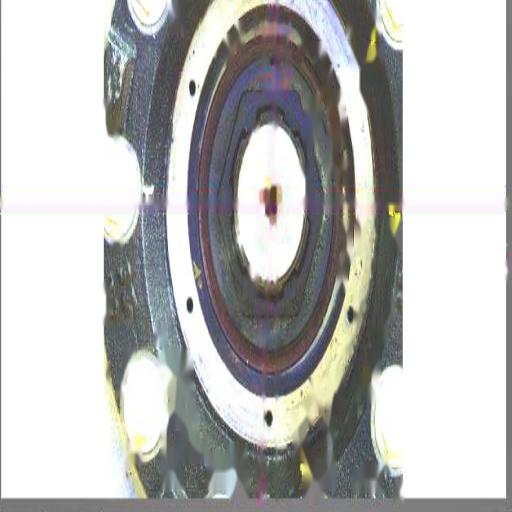center: (262, 195, 278, 225)
notch: (266, 49, 283, 77)
